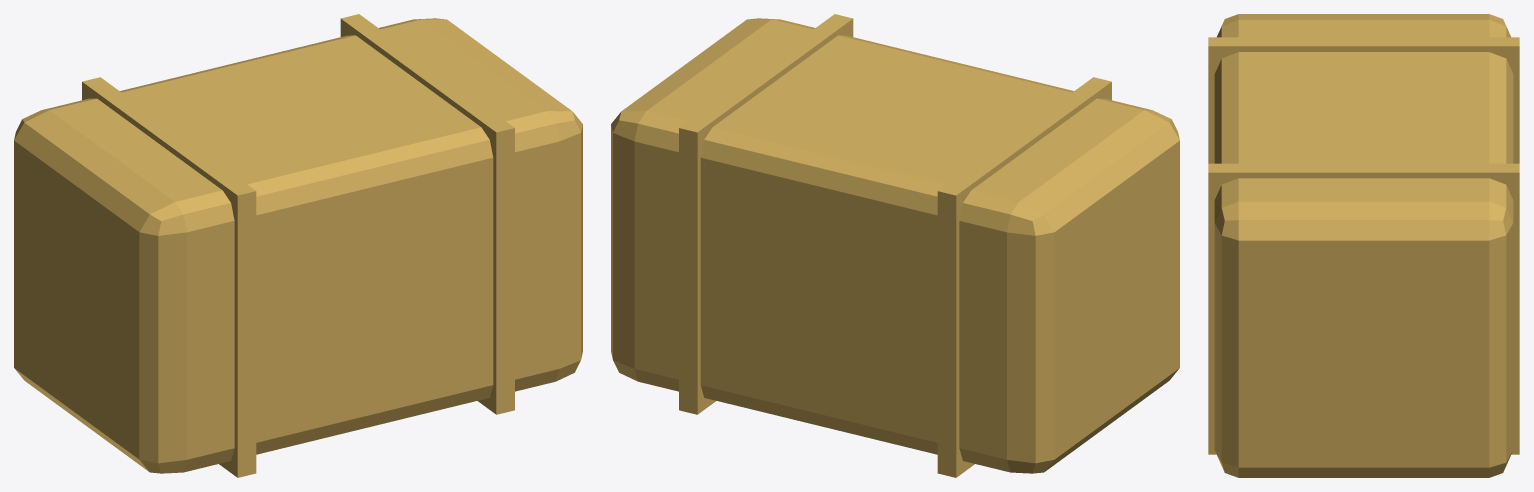
Rendered from SM_HayBale_01.fbx.
3 renders of one model, left to right at view 1: azimuth 30°, elevation 25°; view 2: azimuth 150°, elevation 25°; view 3: azimuth 270°, elevation 25°, orthographic.
Visible parts, largest first — view 1: SM_HayBale_01; view 2: SM_HayBale_01; view 3: SM_HayBale_01.
Part boxes in pixels (left/top/right/bottom): SM_HayBale_01: left=14, top=14, right=582, bottom=477; SM_HayBale_01: left=611, top=14, right=1179, bottom=477; SM_HayBale_01: left=1208, top=14, right=1519, bottom=477.
Bounding box in the file's own units: 1.2 × 0.73 × 0.73.
